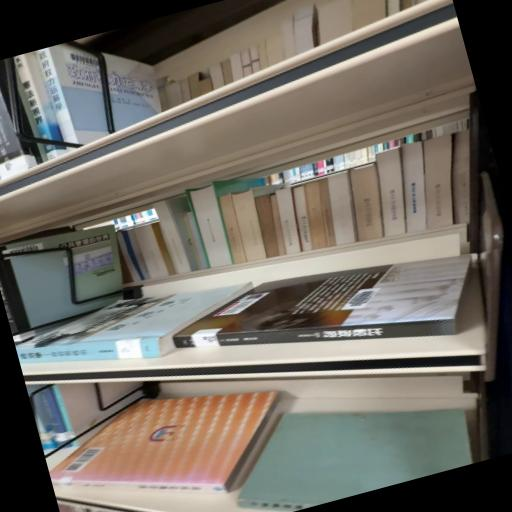flat: (174, 255, 472, 348), (239, 409, 472, 512), (50, 392, 280, 494), (17, 283, 254, 364)
